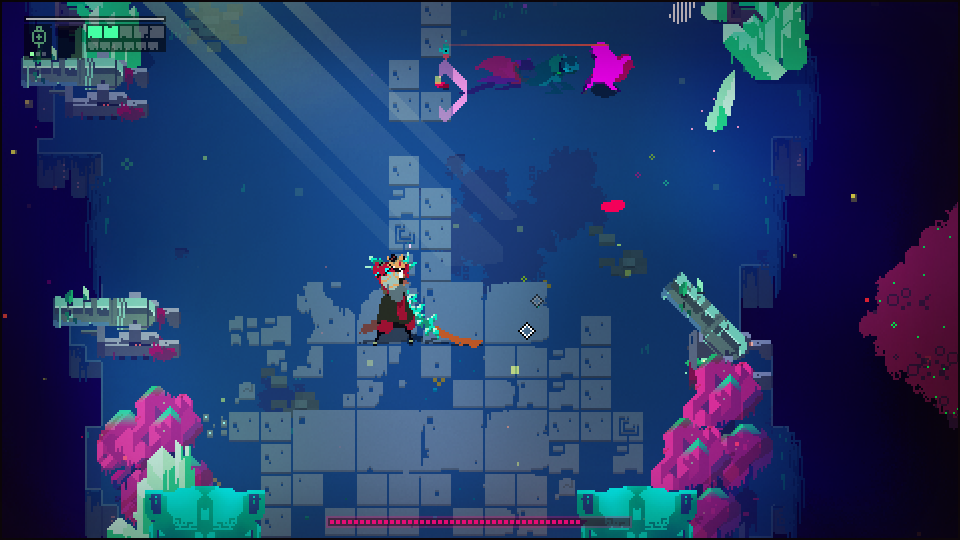hanged_crys: (699, 68, 737, 140)
hanged_man: (363, 249, 445, 347)
player: (582, 39, 626, 92)
